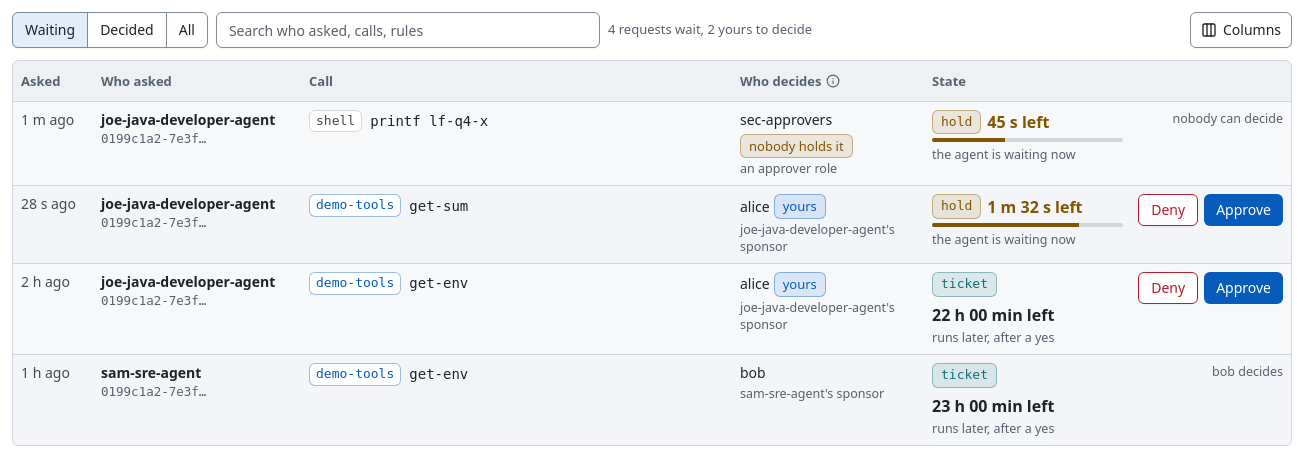
Test: the requests queue › reads a decided row with the phase word, who decided from where and their reason
This screenshot has width=1304, height=476.
Expected: the button with aria-label "Open get-sum for joe-java-developer-agent" is shown, [13, 186, 1291, 264]
Click the button "Decided": click(127, 30) [87, 12, 167, 48]
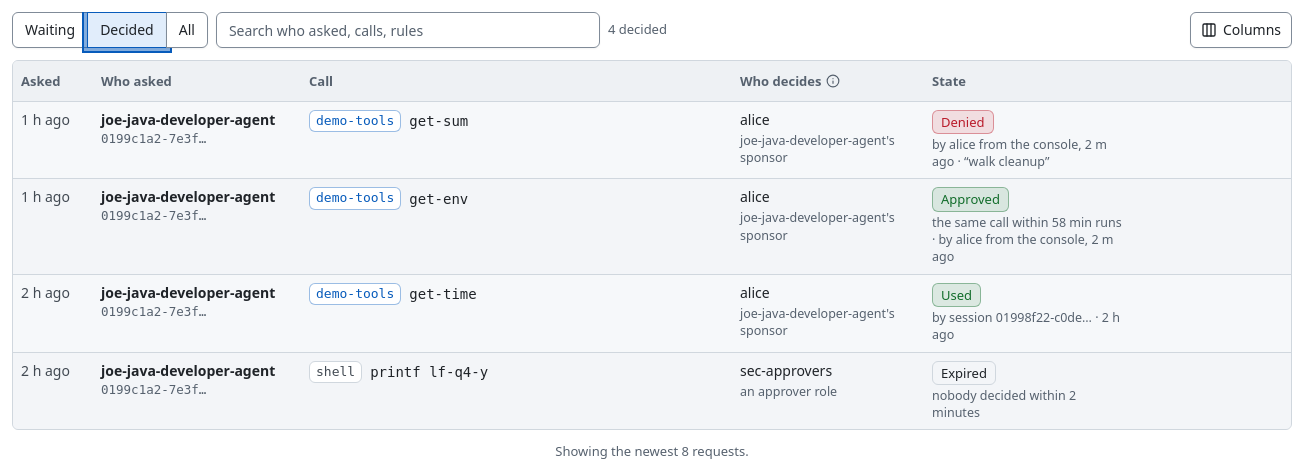
Now the element showing "Denied" is shown, box [932, 110, 994, 134]
Now the text "by alice from the console, 2 m ago · “walk cleanup”" is shown, box [932, 136, 1123, 170]
